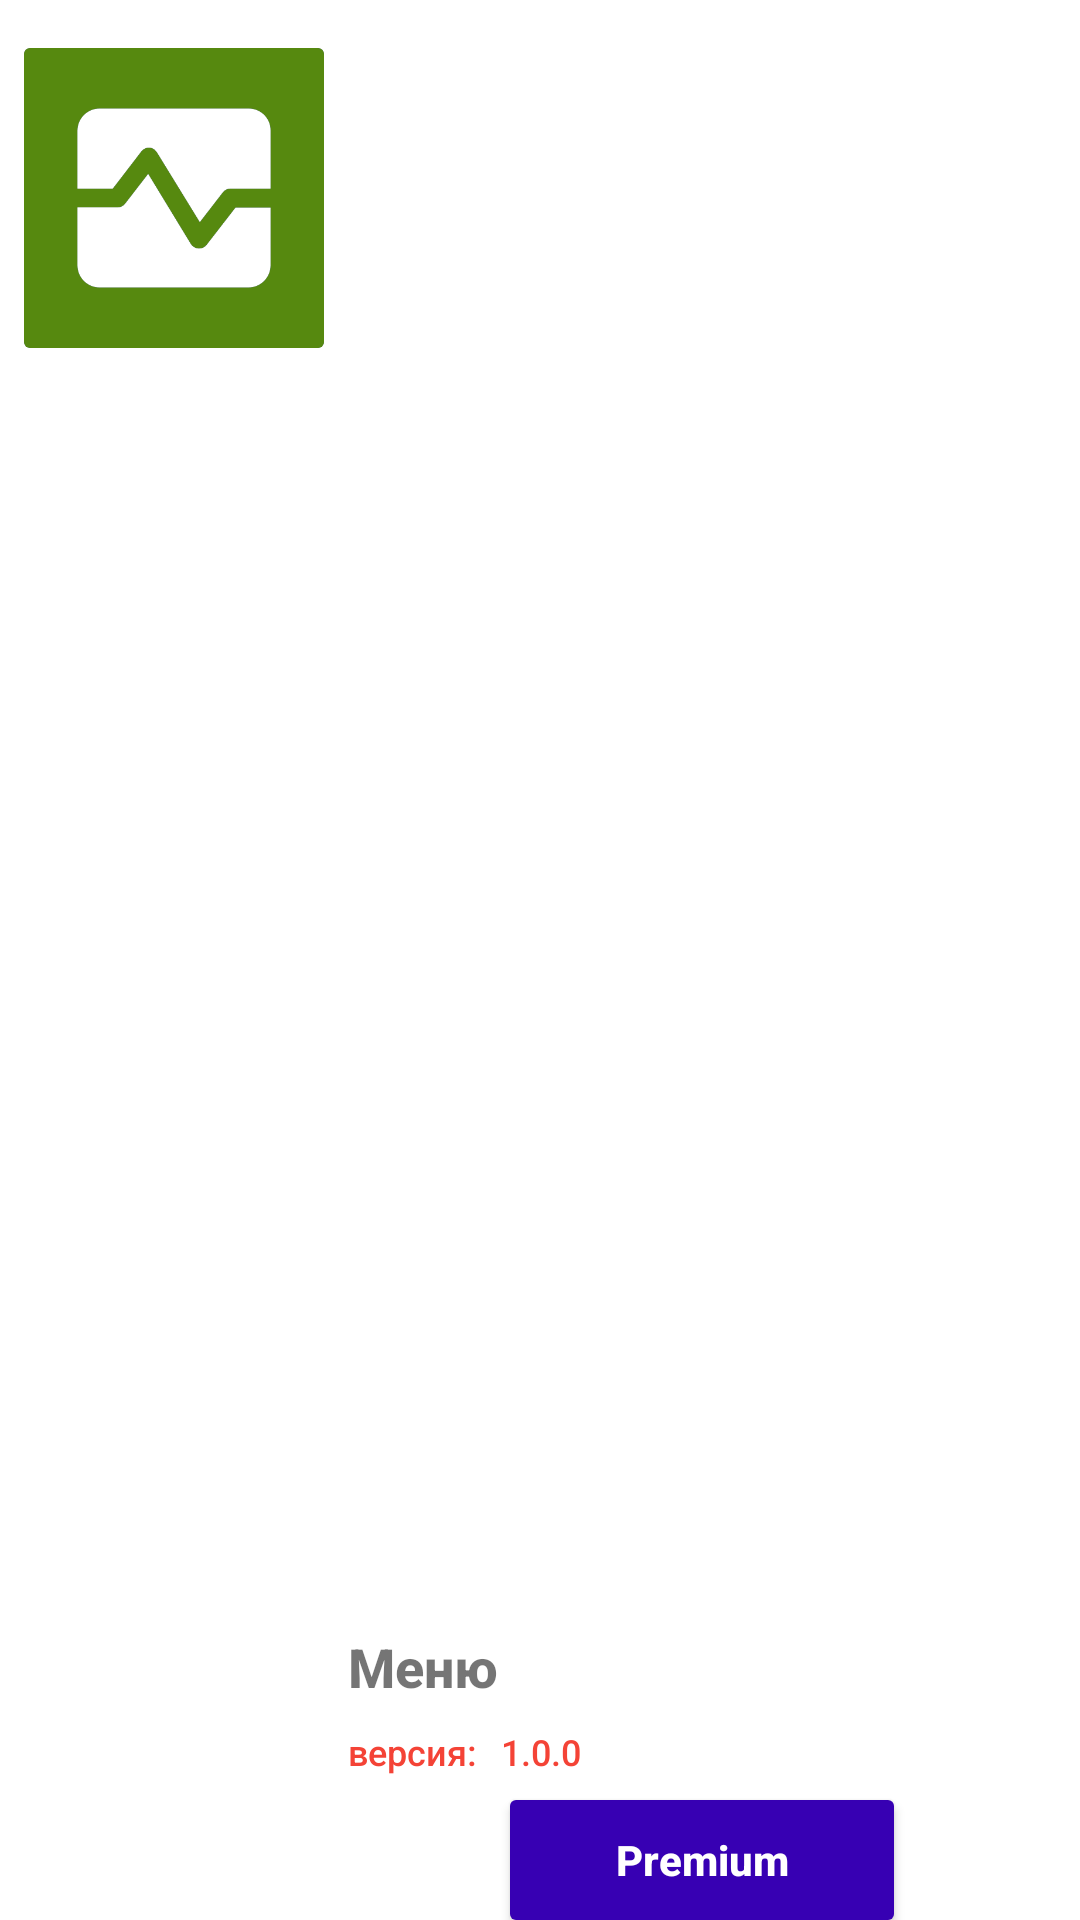

Locate icon controls on the screen. Image size 1080 × 1920, boxes as {"left": x1, "top": y1, "right": x2, "bottom": y2}.
app: {"left": 24, "top": 48, "right": 324, "bottom": 348}
